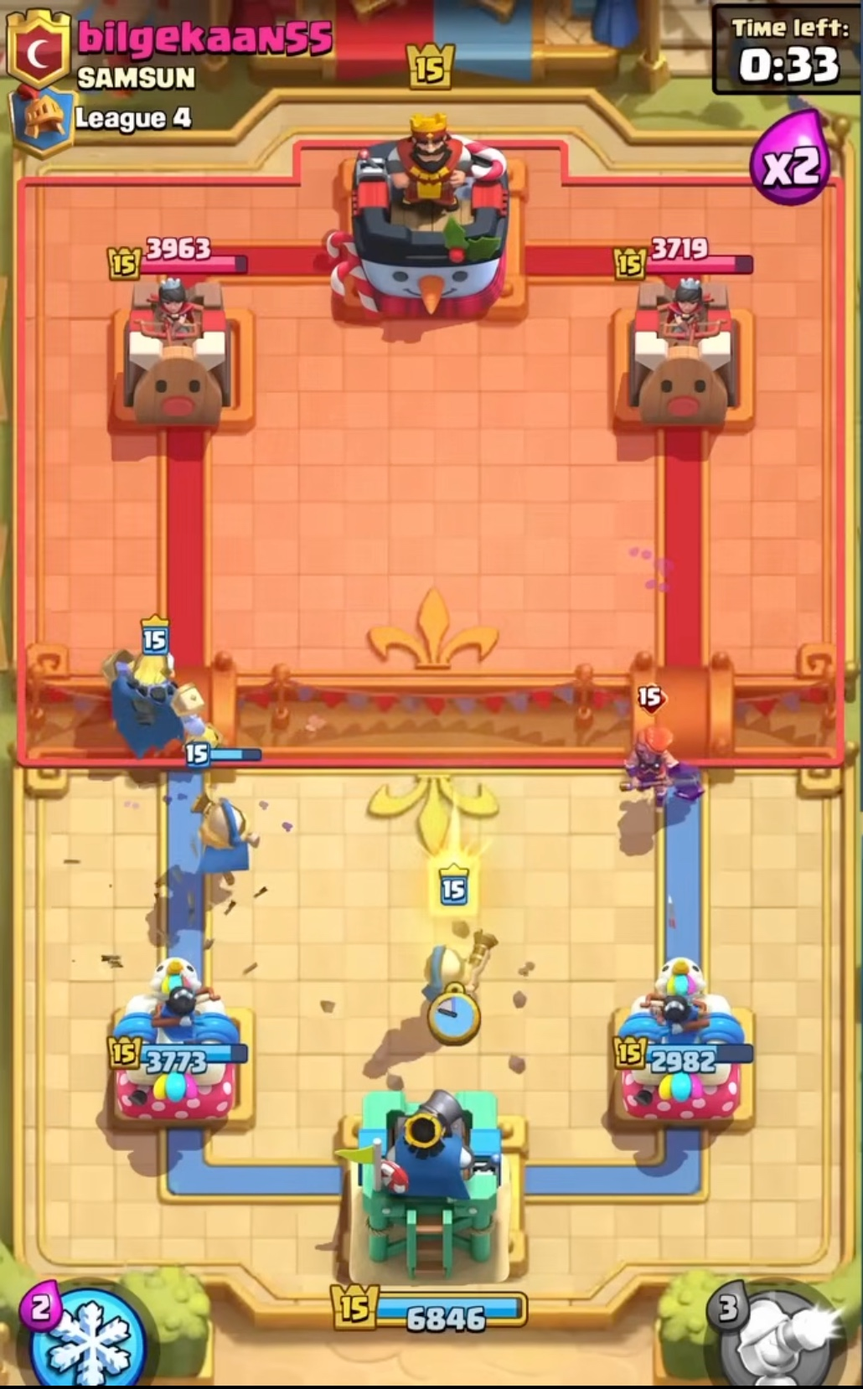hero-ice-golem: (95, 612, 230, 783)
hero-musketeer: (407, 859, 504, 1052), (177, 734, 277, 907)
